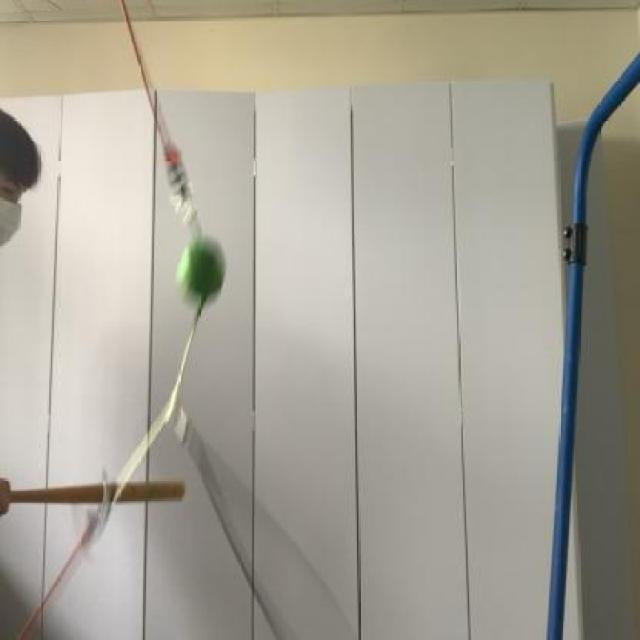baseball: (167, 236, 235, 307)
